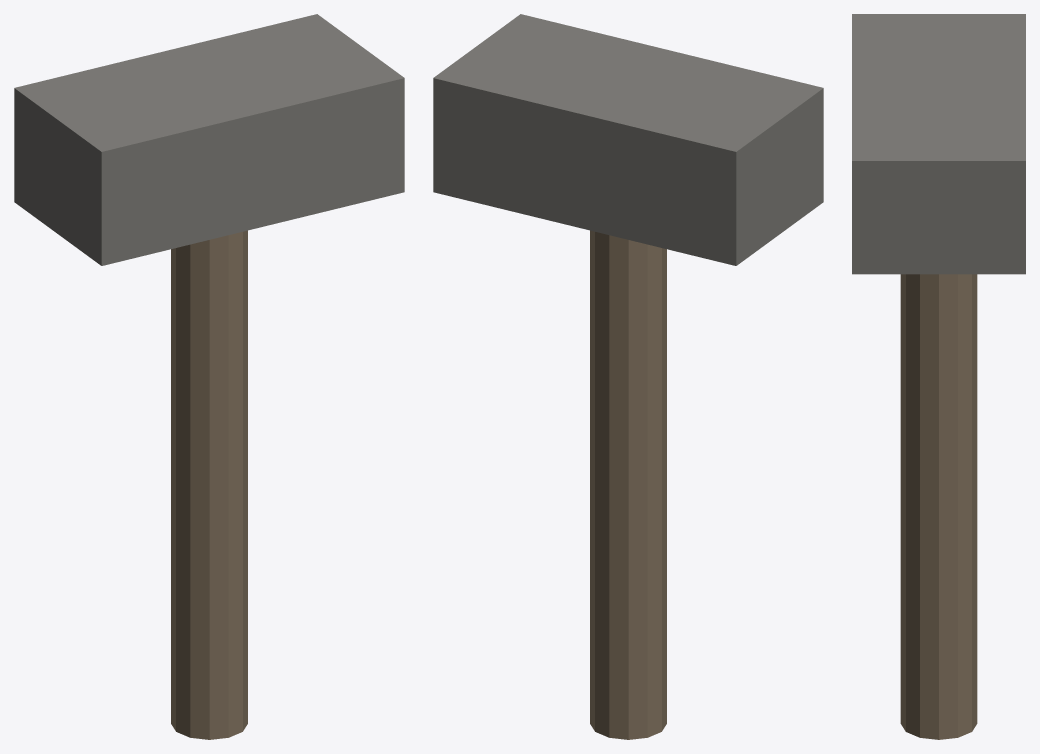
The model's file is hatchet_tool_blockout.glb.
3 views of the same model, side by side, from view 1: azimuth 30°, elevation 25°; view 2: azimuth 150°, elevation 25°; view 3: azimuth 270°, elevation 25° (orthographic).
Parts seen in each view (by area): view 1: world; view 2: world; view 3: world.
Part boxes in pixels (x1,y1,x2,y2): world: [14, 14, 404, 739]; world: [433, 14, 823, 739]; world: [852, 14, 1025, 739].
Bounding box in the file's own units: 0.5 × 1.01 × 0.25.
